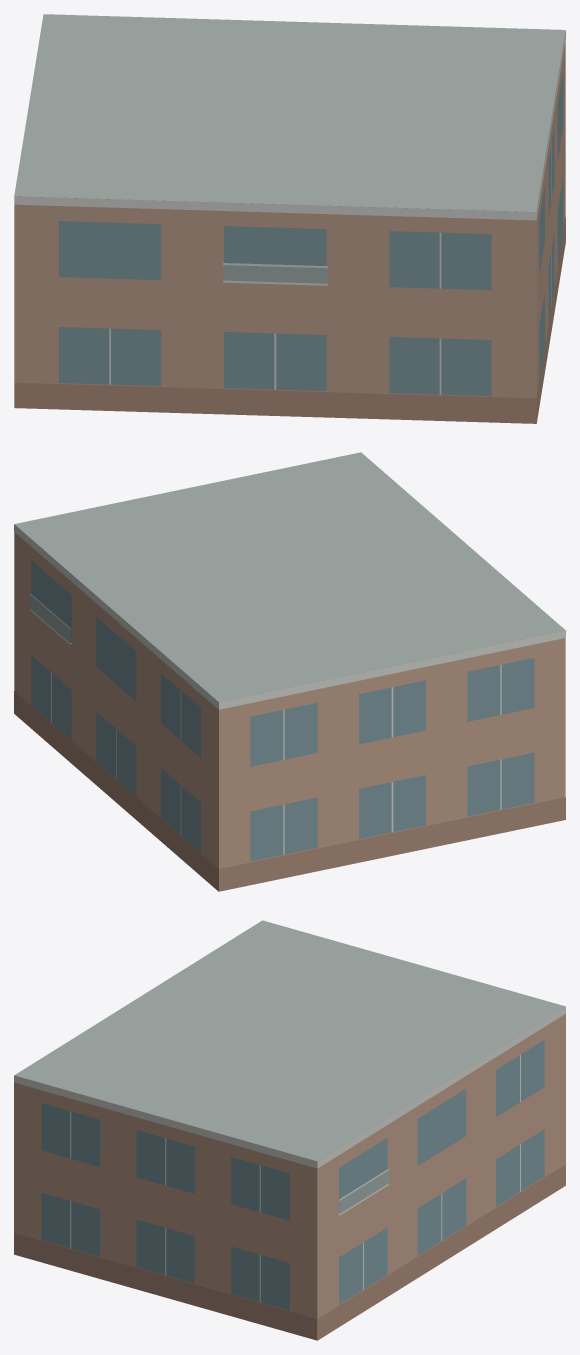
The model's file is survey-upis-32958768.glb.
3 views of the same model, one above another, from view 1: azimuth 30°, elevation 25°; view 2: azimuth 150°, elevation 25°; view 3: azimuth 270°, elevation 25° (orthographic). The views are drawn at different scales.
Visible parts, largest first — view 1: survey-upis-32958768.tmp; view 2: survey-upis-32958768.tmp; view 3: survey-upis-32958768.tmp.
Part boxes in pixels (x1,y1,x2,y2): survey-upis-32958768.tmp: (14, 14, 565, 423); survey-upis-32958768.tmp: (14, 452, 565, 891); survey-upis-32958768.tmp: (14, 920, 565, 1340).
Size of the model in its own units: 17.61 by 6.1 by 17.03.
